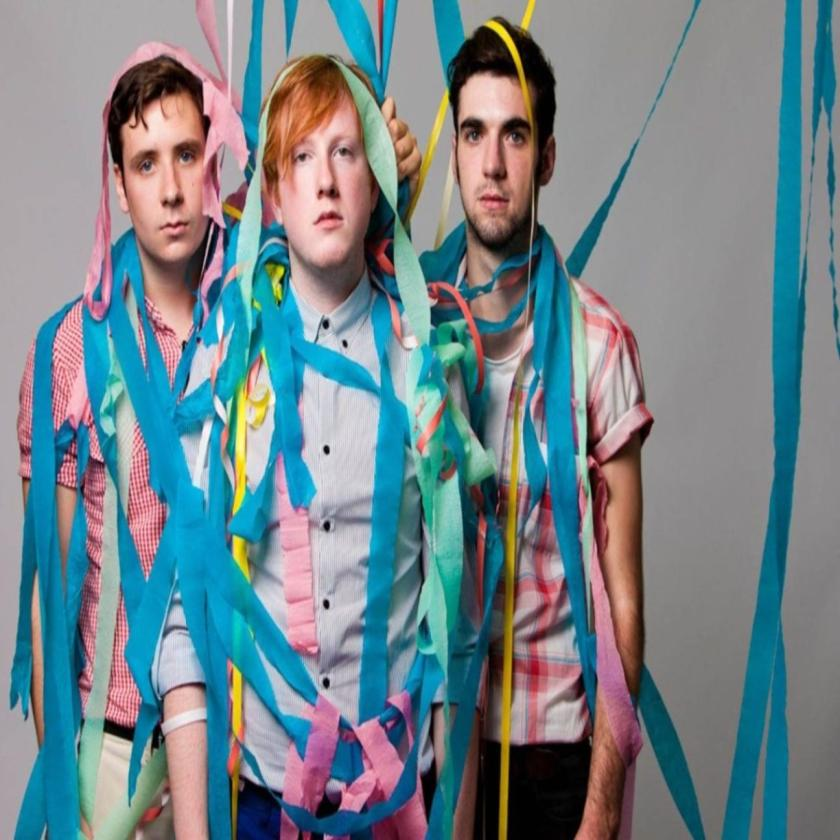Sin_casco: (251, 34, 396, 306), (441, 13, 566, 275), (95, 46, 229, 281)
